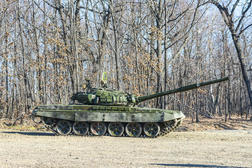t72: (30, 80, 222, 135)
